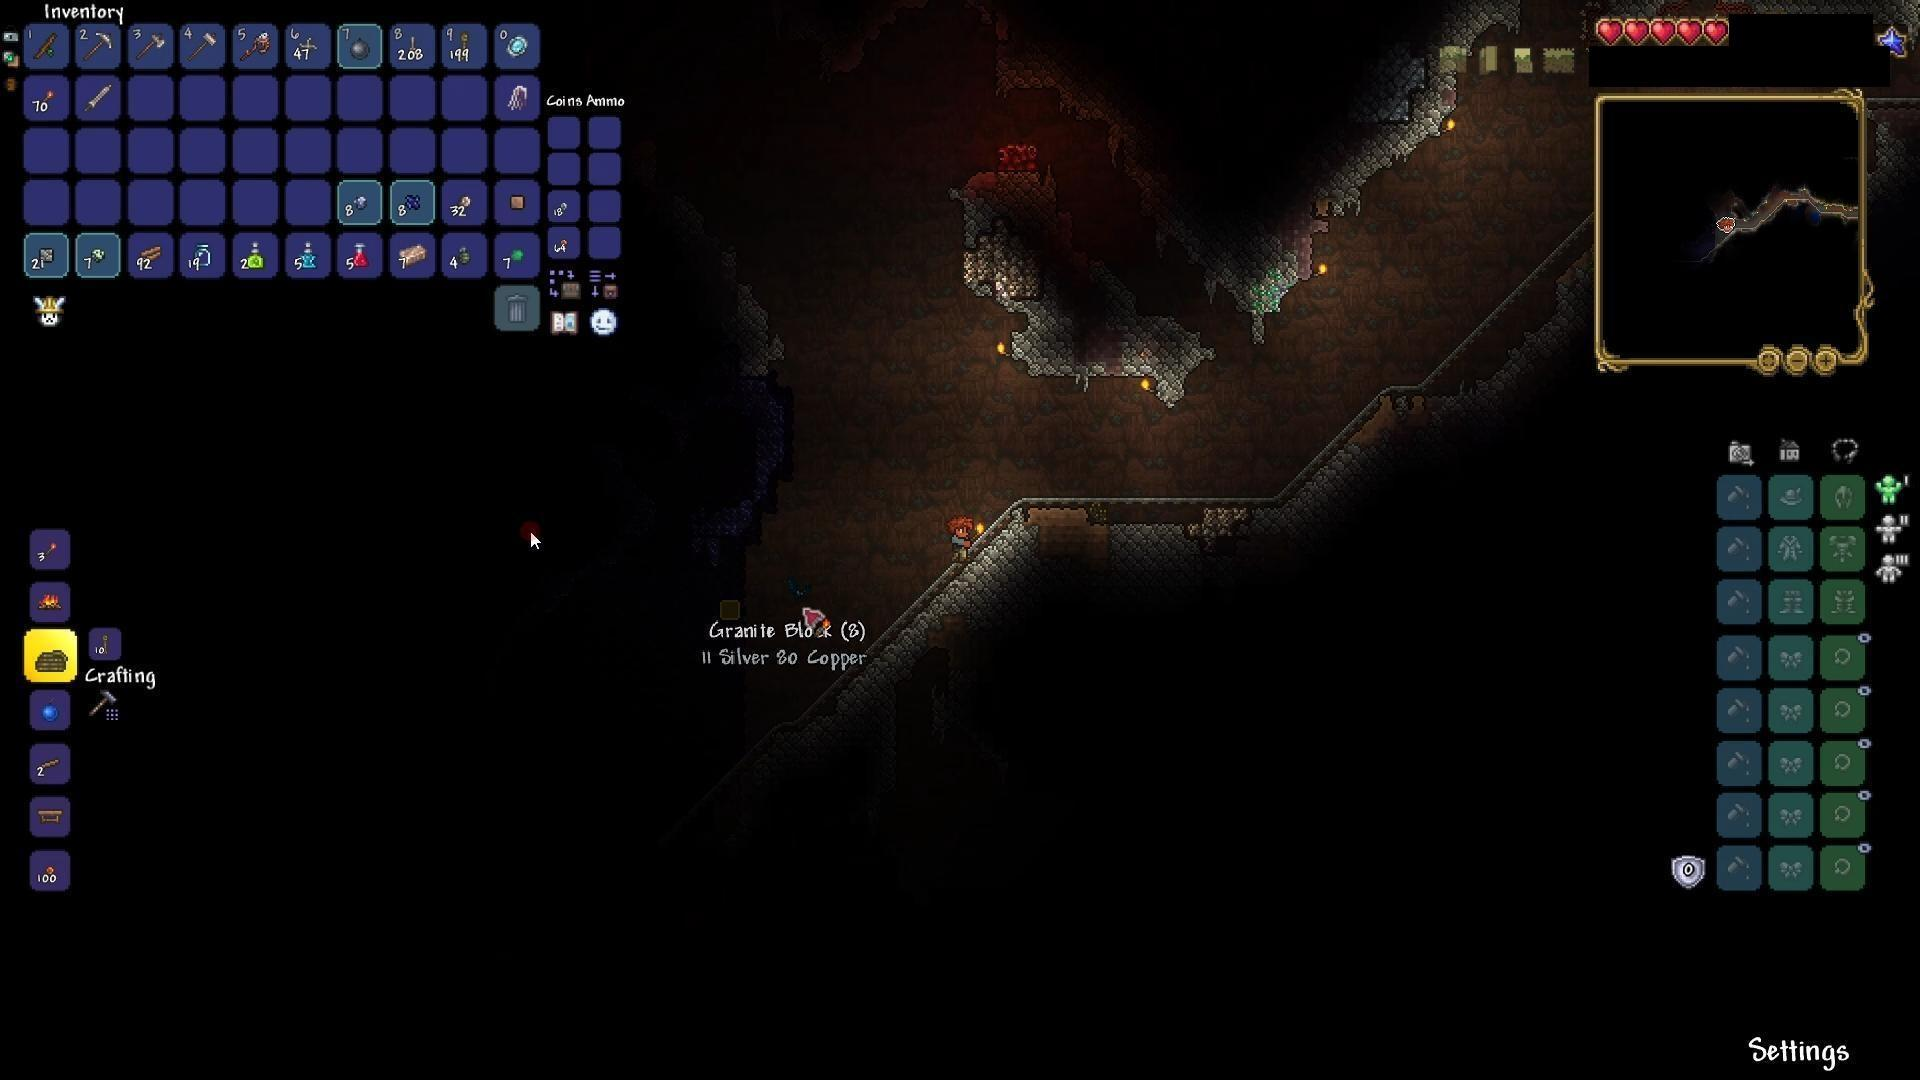heart: (1702, 17, 1733, 51), (1593, 16, 1626, 46), (1676, 15, 1704, 50), (1650, 16, 1676, 49), (1625, 15, 1651, 44)
stone: (833, 512, 1025, 666), (1457, 309, 1561, 435), (1332, 99, 1440, 202), (1120, 302, 1207, 406), (932, 158, 1060, 227), (1261, 462, 1340, 564), (1105, 506, 1185, 585), (1006, 306, 1073, 381), (737, 280, 770, 377)
